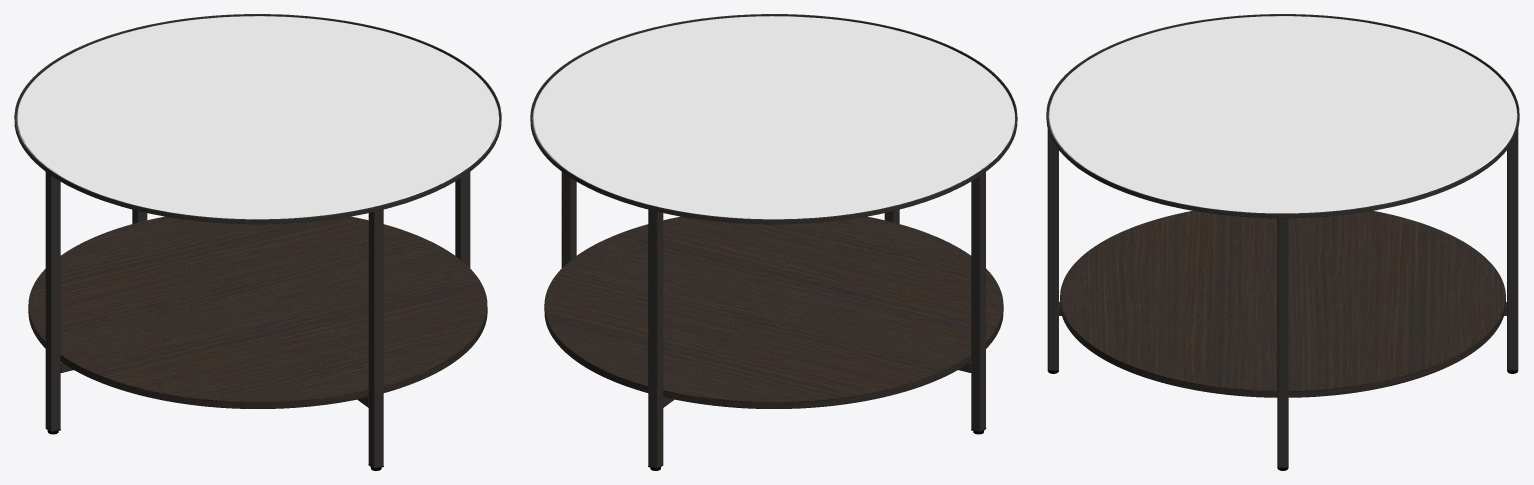
File: vittsjo_stolik_kawowy_80213309.glb
The picture shows the model from 3 angles, left to right: view 1: azimuth 30°, elevation 25°; view 2: azimuth 150°, elevation 25°; view 3: azimuth 270°, elevation 25°; orthographic projection. The views are drawn at different scales.
Visible parts, largest first — view 1: vittsjo_stolik_kawowy_80213309; view 2: vittsjo_stolik_kawowy_80213309; view 3: vittsjo_stolik_kawowy_80213309.
Boxes of the visible parts, x1=… form: vittsjo_stolik_kawowy_80213309: x1=14, y1=14, x2=501, y2=470; vittsjo_stolik_kawowy_80213309: x1=530, y1=14, x2=1017, y2=470; vittsjo_stolik_kawowy_80213309: x1=1046, y1=14, x2=1519, y2=470.
Size of the model in its own units: 0.75 by 0.4512 by 0.75.
Materials: 2 (2 with a texture image).
